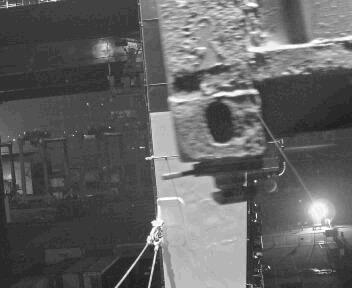twist_lock_1: (179, 147, 273, 212)
